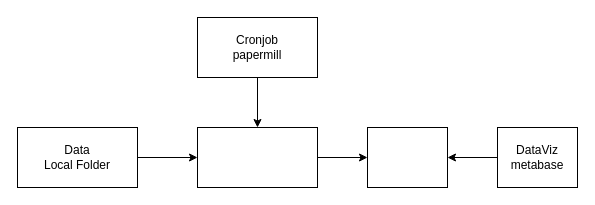
This 595x205 diagram has some shape labels left out. The box of each missing label's shape, as (x1, y1, x2, y2) in pixels:
Jupyter Notebook Deploy: (196, 126, 318, 188)
SQLite: (366, 126, 448, 188)
